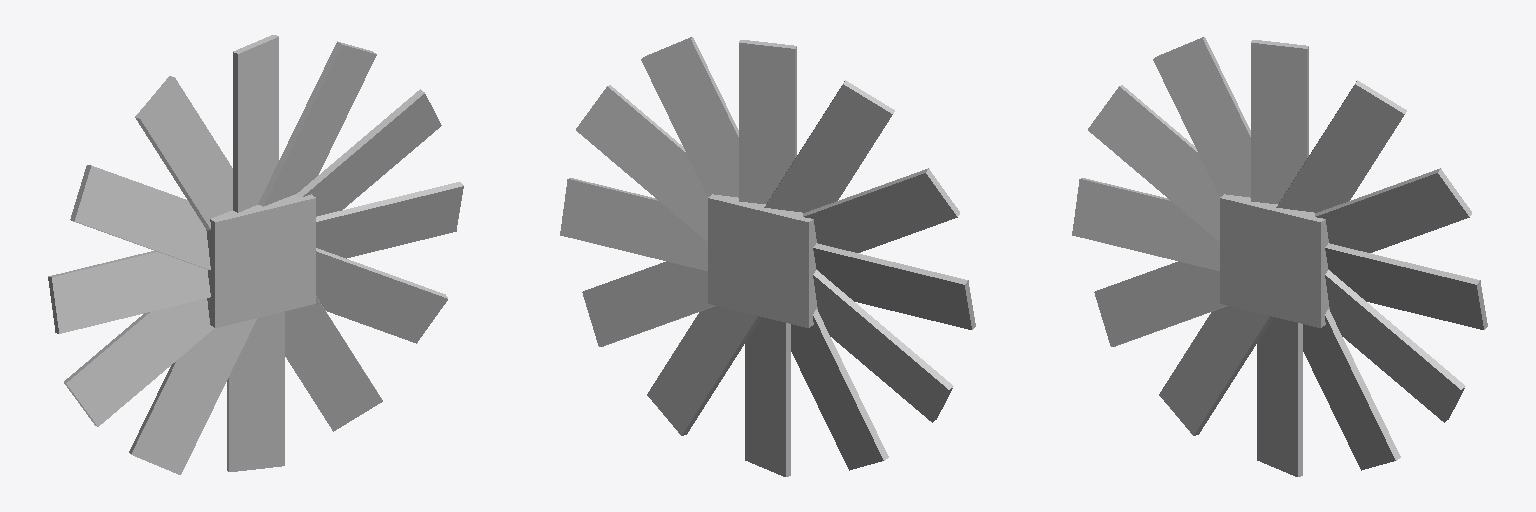
Rendered from turbine_hydro_iron.obj.
3 views of the same model, side by side, from view 1: azimuth 30°, elevation 25°; view 2: azimuth 150°, elevation 25°; view 3: azimuth 330°, elevation 25° (orthographic).
Visible parts, largest first — view 1: base, base.008, base.009, base.010, base.011, base.007, base.006, base.005, base.002, base.004, base.012, base.001 (+1 smaller); view 2: base, base.005, base.004, base.003, base.006, base.001, base.007, base.008, base.009, base.012, base.002, base.011 (+1 smaller); view 3: base, base.005, base.006, base.007, base.004, base.008, base.003, base.001, base.002, base.010, base.009, base.011 (+1 smaller).
Part boxes in pixels (x1,y1,x2,y2): base: (206, 194, 315, 327); base.008: (48, 251, 210, 333); base.009: (64, 298, 214, 426); base.010: (129, 318, 256, 474); base.011: (227, 311, 284, 471); base.007: (70, 165, 210, 269); base.006: (135, 76, 232, 230); base.005: (233, 35, 278, 212); base.002: (316, 248, 447, 343); base.004: (258, 41, 376, 206); base.012: (285, 296, 382, 431); base.001: (316, 182, 463, 258); base: (708, 194, 817, 327); base.005: (739, 40, 796, 203); base.004: (641, 37, 738, 197); base.003: (576, 85, 707, 241); base.006: (764, 80, 894, 212); base.001: (560, 178, 707, 270); base.007: (803, 168, 959, 252); base.008: (813, 243, 975, 329); base.009: (813, 270, 953, 422); base.012: (647, 306, 761, 435); base.002: (582, 261, 714, 346); base.011: (745, 317, 790, 476); base: (1220, 194, 1329, 327); base.005: (1251, 40, 1308, 203); base.006: (1153, 37, 1250, 197); base.007: (1088, 85, 1219, 241); base.004: (1276, 80, 1406, 212); base.008: (1072, 178, 1219, 270); base.003: (1315, 168, 1471, 252); base.001: (1325, 243, 1487, 329); base.002: (1325, 270, 1465, 422); base.010: (1159, 306, 1273, 435); base.009: (1094, 261, 1226, 346); base.011: (1257, 317, 1302, 476).
Bounding box in the file's own units: 2.4 × 2.4 × 0.2.